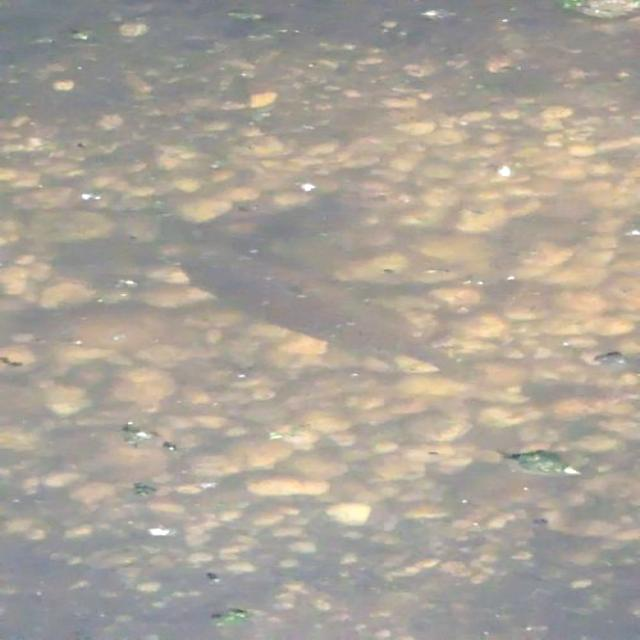Gunes Levregi: (154, 238, 492, 396)
